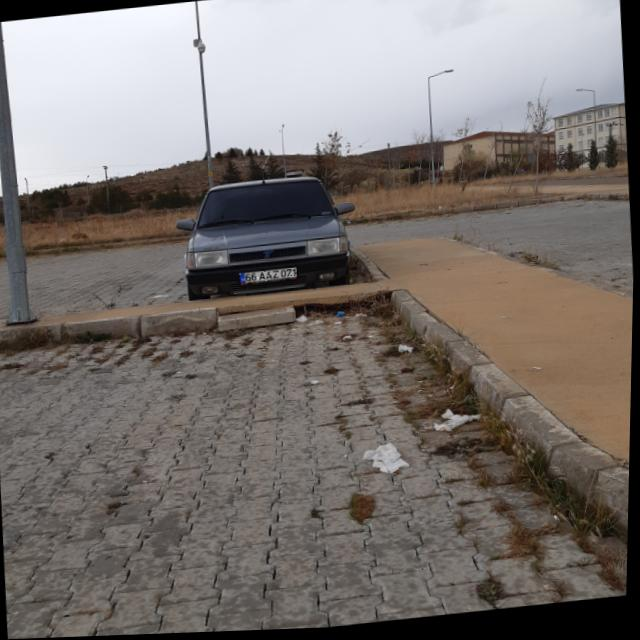license_plate: (240, 268, 298, 285)
